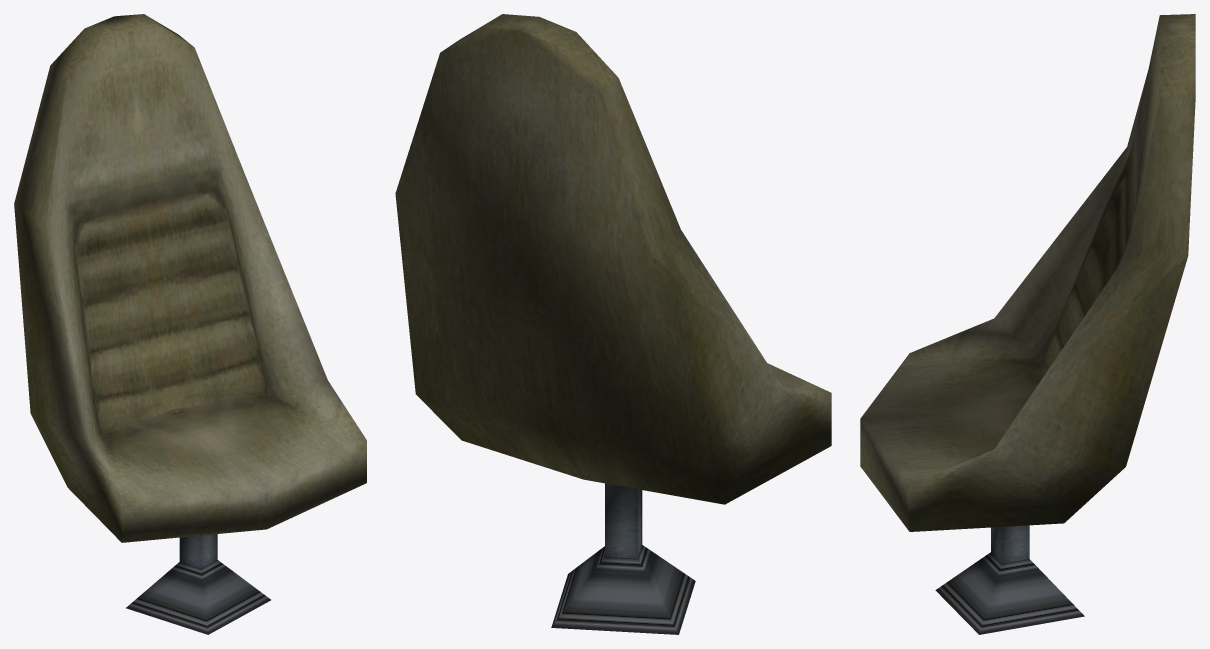
The model's file is frn_spc_chair_pilot_s01_l2.fbx.
3 renders of one model, left to right at view 1: azimuth 30°, elevation 25°; view 2: azimuth 150°, elevation 25°; view 3: azimuth 270°, elevation 25°, orthographic. The views are drawn at different scales.
Visible parts, largest first — view 1: mesh_node; view 2: mesh_node; view 3: mesh_node.
Part boxes in pixels (left/top/right/bottom): mesh_node: left=14, top=14, right=366, bottom=634; mesh_node: left=395, top=14, right=831, bottom=634; mesh_node: left=860, top=14, right=1195, bottom=634.
Bounding box in the file's own units: 0.59 × 1.21 × 0.6362.
